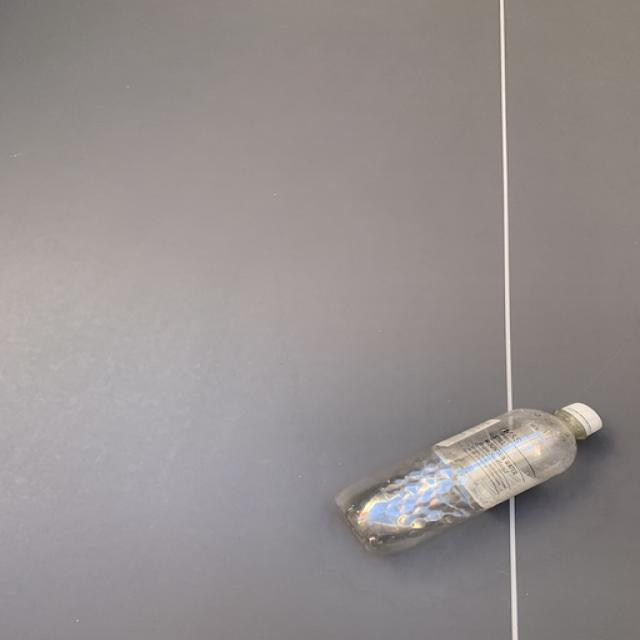Waste: (336, 404, 604, 556)
